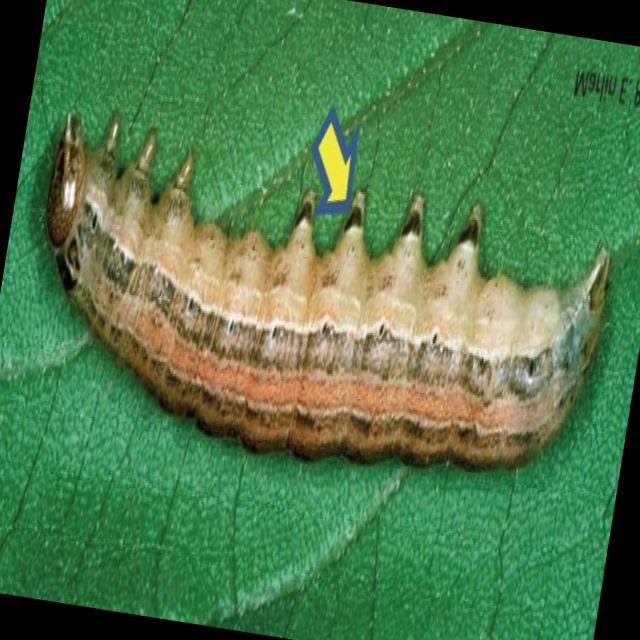Plaga: (1, 84, 640, 537)
